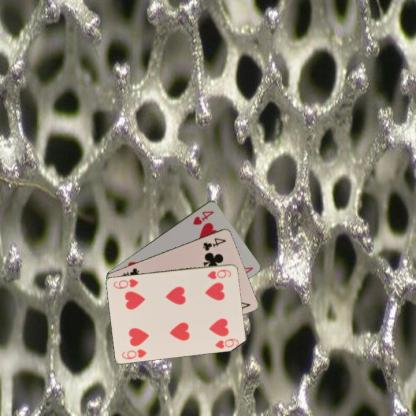4c: (200, 235, 227, 252)
4h: (190, 208, 216, 226)
6h: (120, 346, 148, 361), (205, 267, 232, 280)
